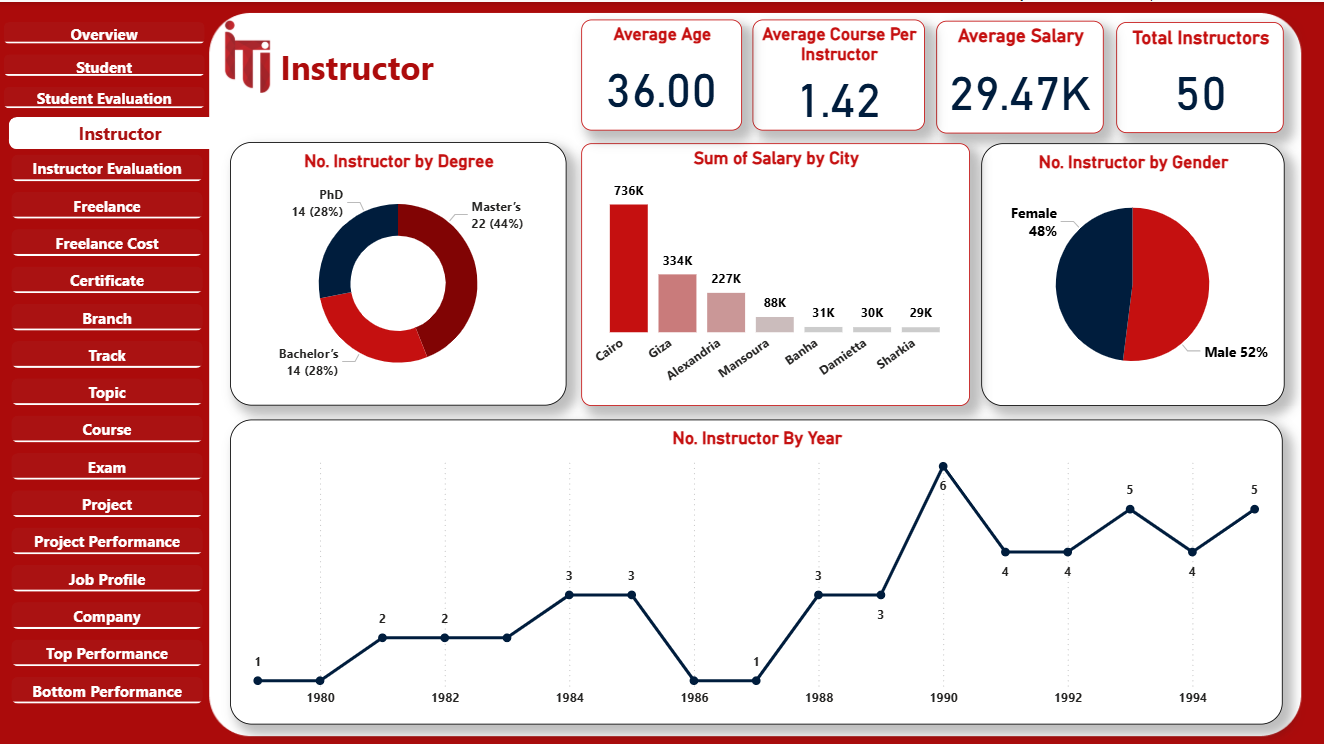

This screenshot's page, from the dashboard's own definition file:
{"tool":"powerbi","page":{"name":"Instructor","canvas":[1280,720],"ordinal":3},"visuals":[{"type":"card","title":"Total Instructors","fields":{"Values":["Measures_.Total Instructors"]},"box":[1077.2,19.2,161.9,107],"z":0},{"type":"card","title":"Average Salary","fields":{"Values":["Avg(Dim_Instructor.Salary)"]},"box":[903.8,17.8,161.9,108.4],"z":1000},{"type":"card","title":"Average Course Per Instructor","fields":{"Values":["Measures_.Avg Courses per Instructor"]},"box":[726.4,16.5,166,107],"z":2000},{"type":"pieChart","title":"No. Instructor by Gender","fields":{"Category":["Dim_Instructor.Gender"],"Y":["CountNonNull(Dim_Instructor.ins_id)"]},"box":[946.5,135.9,292.5,253.6],"z":3000},{"type":"donutChart","title":"No. Instructor by Degree","fields":{"Y":["CountNonNull(Dim_Instructor.ins_id)"],"Category":["Dim_Instructor.Degree"]},"box":[222.3,135.7,324.8,254],"z":4000},{"type":"clusteredColumnChart","fields":{"Y":["Sum(Dim_Instructor.Salary)"],"Category":["Dim_Instructor.City"]},"box":[560.6,135.9,375,253.6],"z":5000},{"type":"lineChart","title":"No. Instructor By Year","fields":{"Category":["Dim_Instructor.birth_date.Variation.Date Hierarchy.Year"],"Y":["CountNonNull(Dim_Instructor.ins_id)"]},"box":[222.3,402.7,1016.2,294.5],"z":6000},{"type":"card","title":"Average Age","fields":{"Values":["Avg(Dim_Instructor.Age)"]},"box":[561.2,16.5,155.1,107],"z":7000},{"type":"textbox","box":[264.8,35.7,237.4,65.9],"z":8000},{"type":"pageNavigator","box":[8.2,111.1,215.4,31.6],"z":9000},{"type":"pageNavigator","box":[11,146.8,185.2,540.7],"z":10000},{"type":"pageNavigator","box":[4.1,19.2,194.9,85.1],"z":11000},{"type":"image","box":[196.2,4.1,86.4,89.2],"z":12000}]}

Visuals, with their boxes in screenshot pixels (x1, y1, x2, y2), scaled from the page's 1280x720 canvas onto the 1324x744 screenshot:
"Total Instructors" card: <bbox>1114, 20, 1282, 130</bbox>
"Average Salary" card: <bbox>935, 18, 1102, 130</bbox>
"Average Course Per Instructor" card: <bbox>751, 17, 923, 128</bbox>
"No. Instructor by Gender" pieChart: <bbox>979, 140, 1282, 402</bbox>
"No. Instructor by Degree" donutChart: <bbox>230, 140, 566, 403</bbox>
clusteredColumnChart - Sum(Dim_Instructor.Salary) x Dim_Instructor.City: <bbox>580, 140, 968, 402</bbox>
"No. Instructor By Year" lineChart: <bbox>230, 416, 1281, 720</bbox>
"Average Age" card: <bbox>580, 17, 741, 128</bbox>
textbox: <bbox>274, 37, 519, 105</bbox>
pageNavigator: <bbox>8, 115, 231, 147</bbox>
pageNavigator: <bbox>11, 152, 203, 710</bbox>
pageNavigator: <bbox>4, 20, 206, 108</bbox>
image: <bbox>203, 4, 292, 96</bbox>
